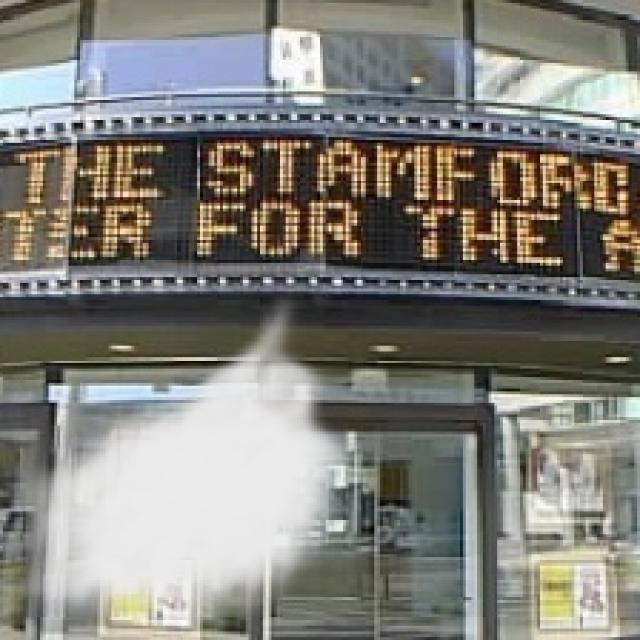Smoke: (2, 288, 368, 634)
